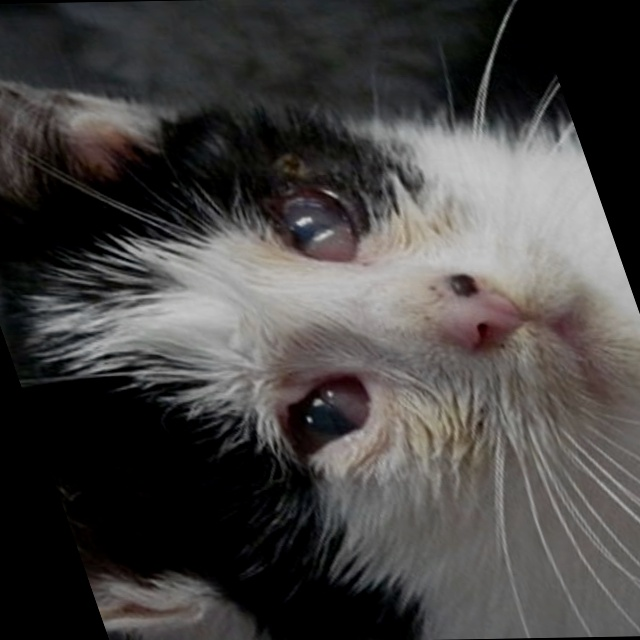eye_infection: (252, 366, 396, 465), (258, 171, 381, 268)
